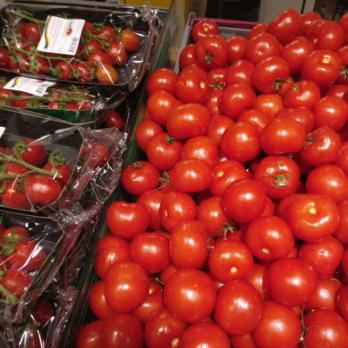Tomato: (159, 3, 348, 348), (106, 162, 171, 348)
